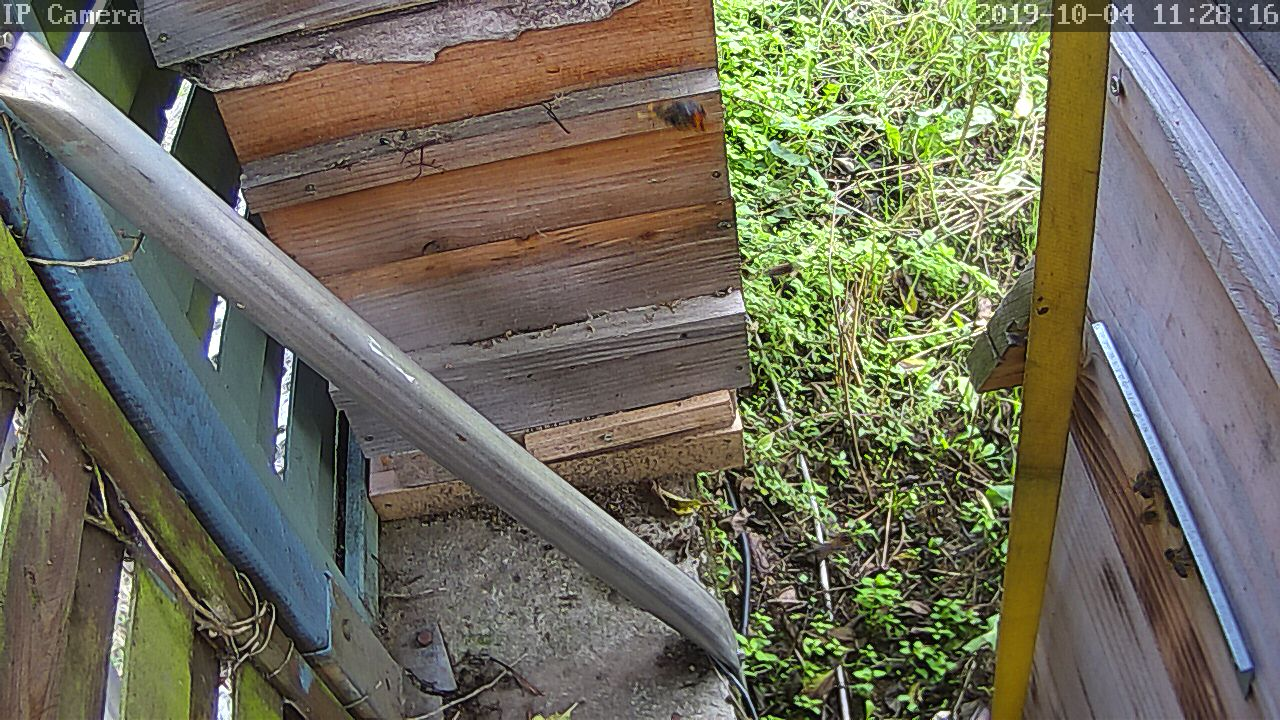bee: (1129, 464, 1165, 510), (1133, 482, 1167, 529), (1160, 541, 1197, 575)
hornet: (608, 471, 681, 525), (635, 91, 716, 137), (1133, 482, 1167, 529)
